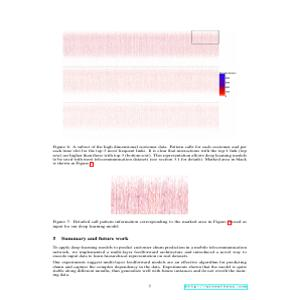diagram: (57, 29, 237, 138), (103, 171, 195, 218)
text: (52, 233, 251, 279), (49, 142, 249, 168), (51, 218, 249, 228)
